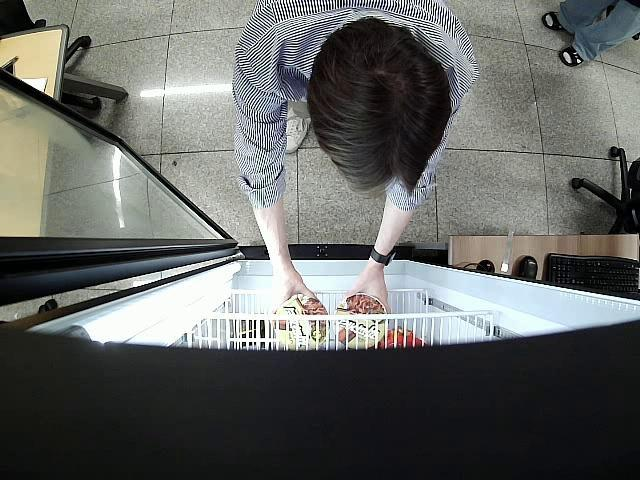03_chapagetti_L: (337, 298, 388, 350), (278, 296, 328, 348)
